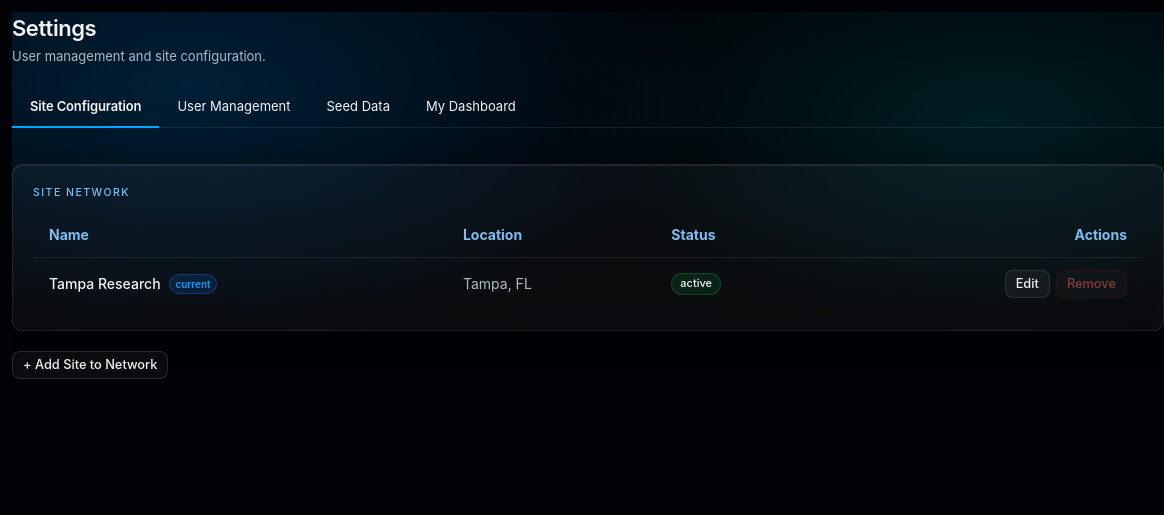
Test: Settings — My Dashboard tab › renders tile list when My Dashboard tab is active
The width and height of the screenshot is (1164, 515).
Click the tab "My Dashboard". click: (471, 107)
box: top-left (408, 86), bottom-right (534, 128)
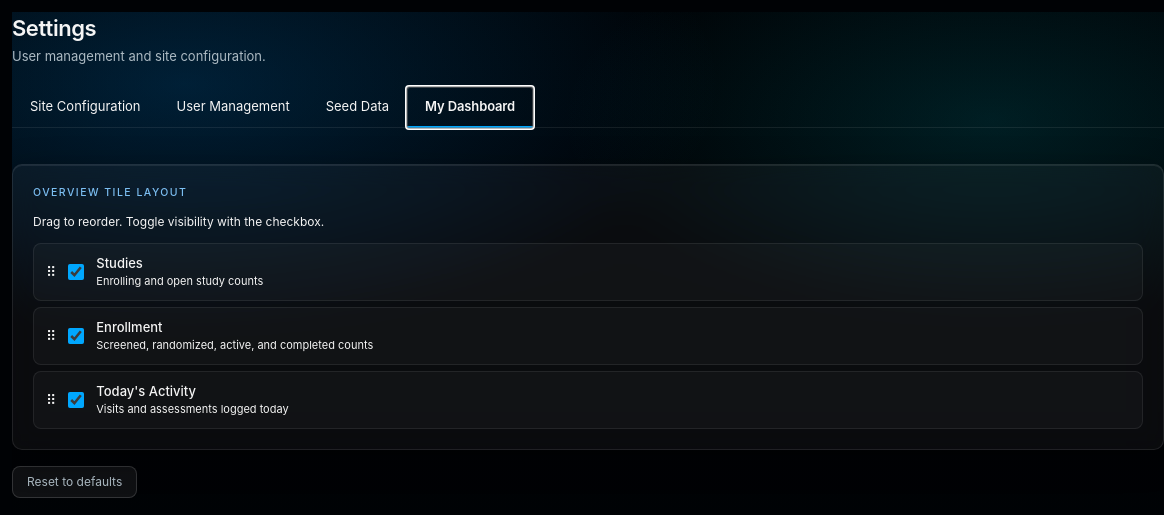
Result: the text "Studies" is shown at top-left (96, 255), bottom-right (143, 271)
Result: the checkbox labelled "Studies Enrolling and open study counts" is shown at top-left (68, 264), bottom-right (84, 280)
